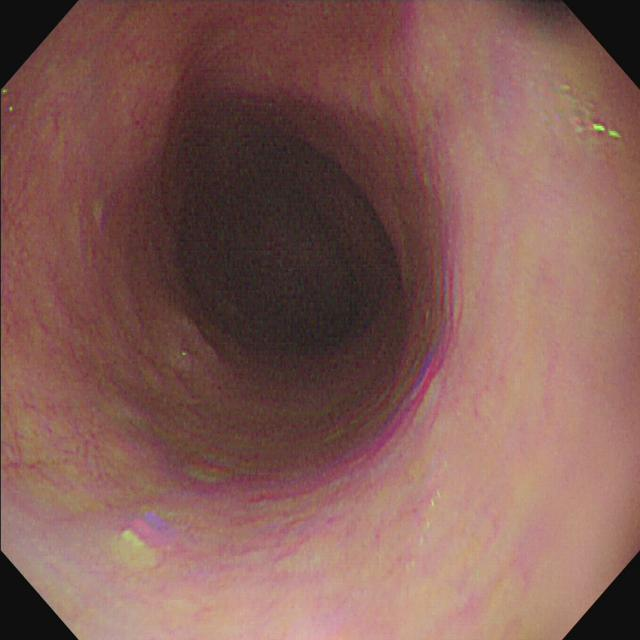E: (185, 136, 401, 355)
